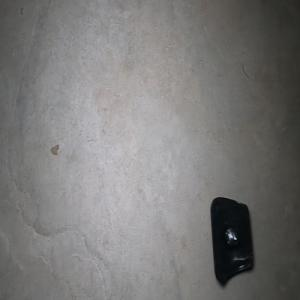LuggagePart: (209, 195, 254, 285)
